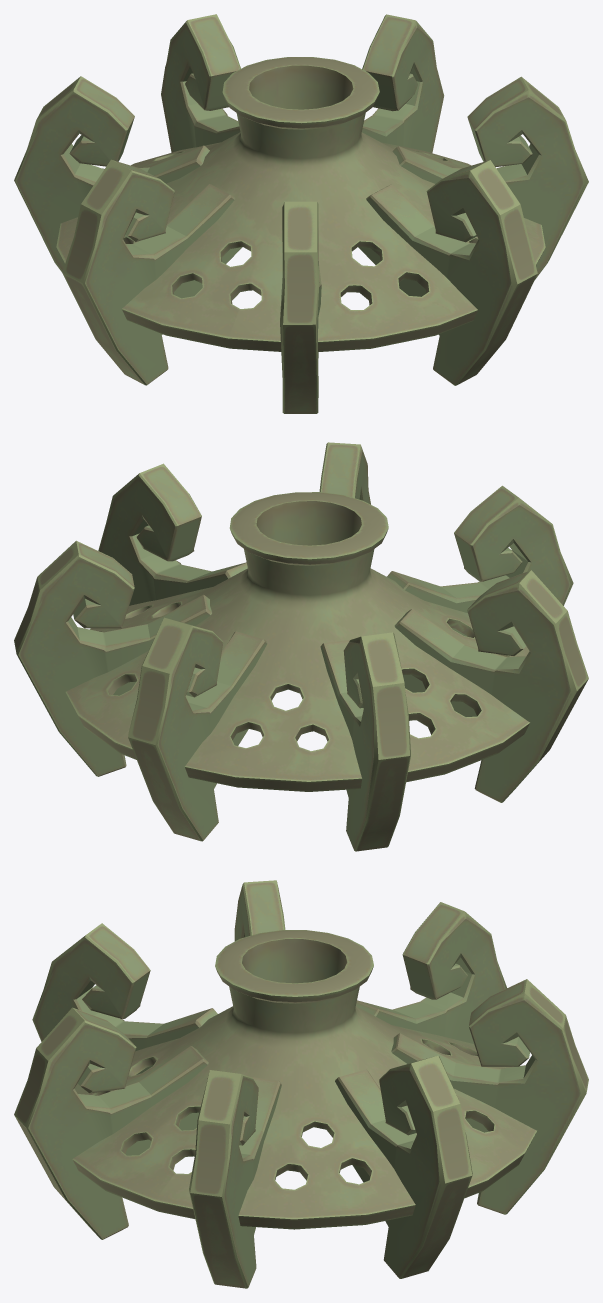
Rendered from FireLamp_Top.fbx.
3 renders of one model, top to bottom at view 1: azimuth 30°, elevation 25°; view 2: azimuth 150°, elevation 25°; view 3: azimuth 270°, elevation 25°, orthographic.
Visible parts, largest first — view 1: Upper; view 2: Upper; view 3: Upper.
Boxes of the visible parts, left/top/right/bottom form: Upper: left=14, top=14, right=588, bottom=413; Upper: left=14, top=442, right=588, bottom=851; Upper: left=14, top=880, right=588, bottom=1288.
Size of the model in its own units: 3.73 by 1.7 by 3.7.
